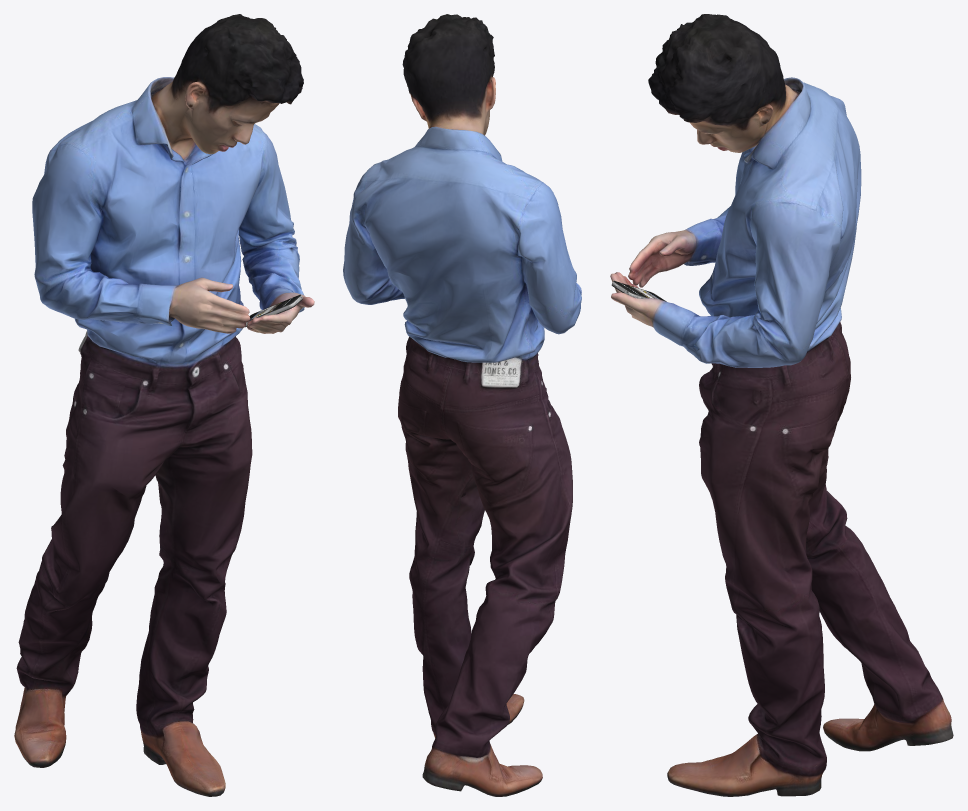
Rendered from maleCasual.dae.
The picture shows the model from 3 angles, left to right: view 1: azimuth 30°, elevation 25°; view 2: azimuth 150°, elevation 25°; view 3: azimuth 270°, elevation 25°; orthographic projection. The views are drawn at different scales.
Visible parts, largest first — view 1: skp99E7; view 2: skp99E7; view 3: skp99E7.
Boxes of the visible parts, x1,y1,x2,y2 form: skp99E7: (14,14,314,796); skp99E7: (343,14,581,796); skp99E7: (610,14,953,796).
Size of the model in its own units: 24.67 by 27.71 by 70.27.
Materials: 1 (1 with a texture image).
